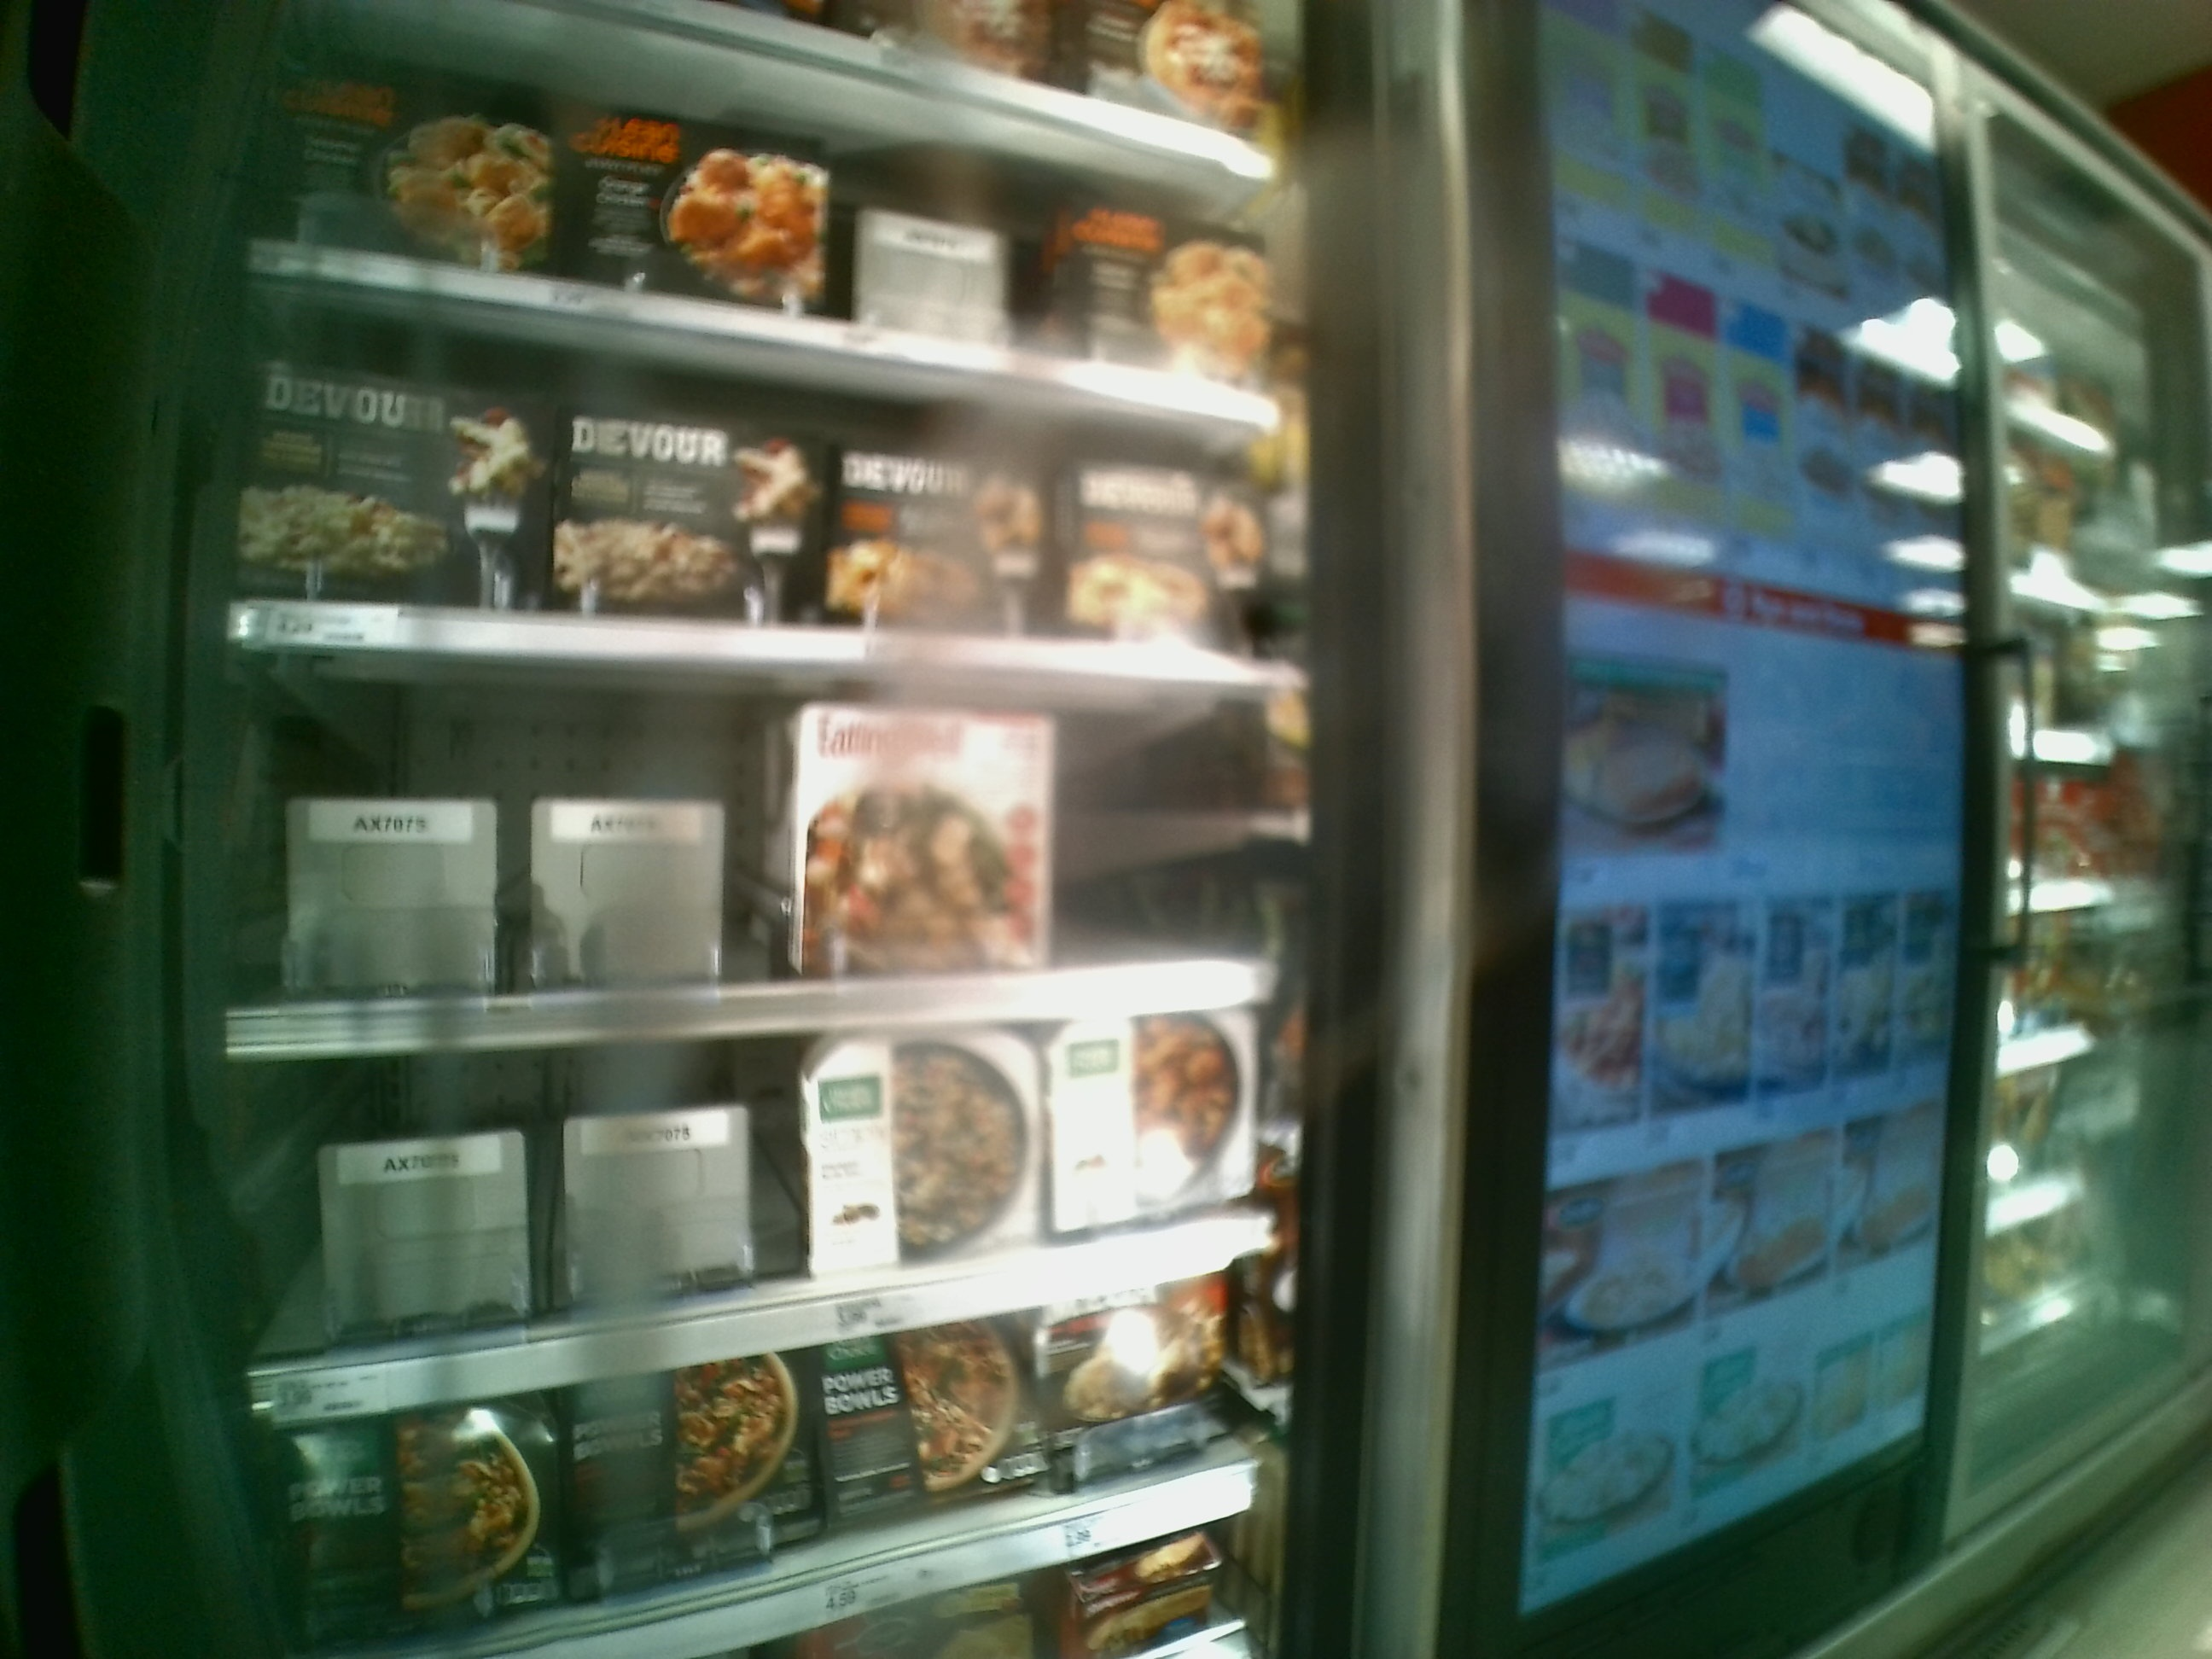shelf: (225, 641, 1282, 1054)
